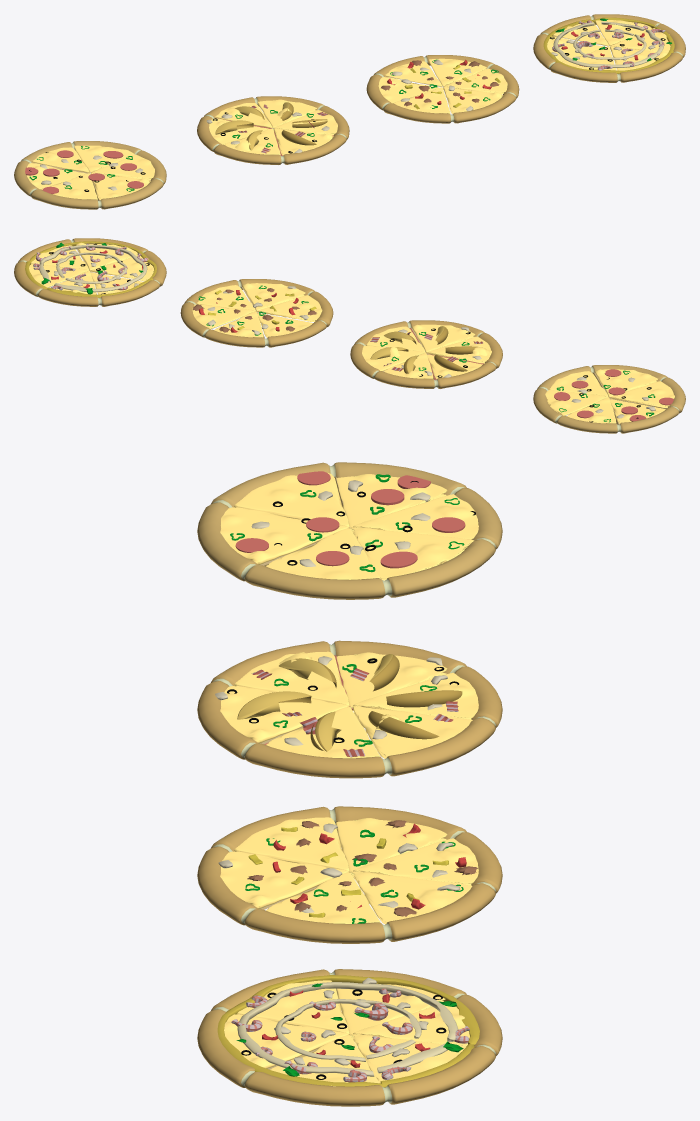
Rendered from Pizza Random Seir (2).fbx.
3 renders of one model, top to bottom at view 1: azimuth 30°, elevation 25°; view 2: azimuth 150°, elevation 25°; view 3: azimuth 270°, elevation 25°, orthographic. The views are drawn at different scales.
Parts seen in each view (by area): view 1: Cube.017, Cube.044, Cube.000, Cube.018; view 2: Cube.000, Cube.017, Cube.044, Cube.018; view 3: Cube.044, Cube.017, Cube.000, Cube.018.
Boxes of the visible parts, <box> form: Cube.017: <box>14,141,166,209</box>; Cube.044: <box>533,14,685,82</box>; Cube.000: <box>197,96,349,164</box>; Cube.018: <box>366,55,519,123</box>; Cube.000: <box>350,320,502,388</box>; Cube.017: <box>533,365,685,433</box>; Cube.044: <box>14,238,166,306</box>; Cube.018: <box>180,279,333,347</box>; Cube.044: <box>197,969,502,1106</box>; Cube.017: <box>197,462,502,599</box>; Cube.000: <box>197,640,502,778</box>; Cube.018: <box>197,806,502,943</box>.
Bounding box in the file's own units: 1395 × 30.74 × 283.
